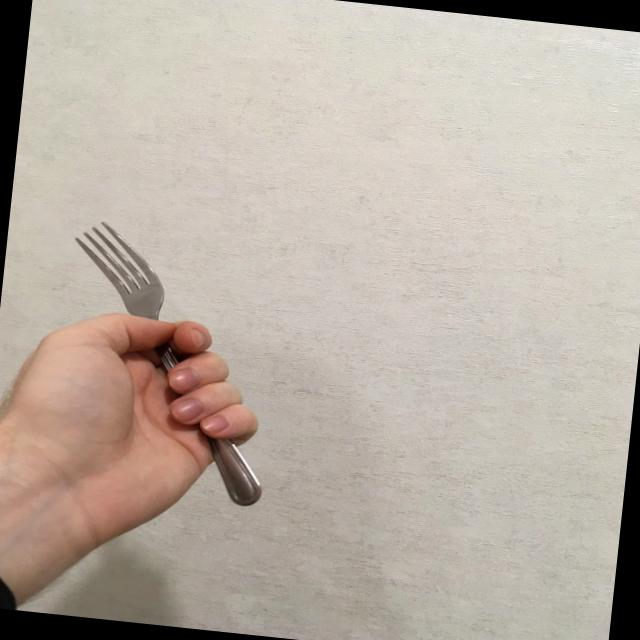fork: (43, 219, 289, 506)
